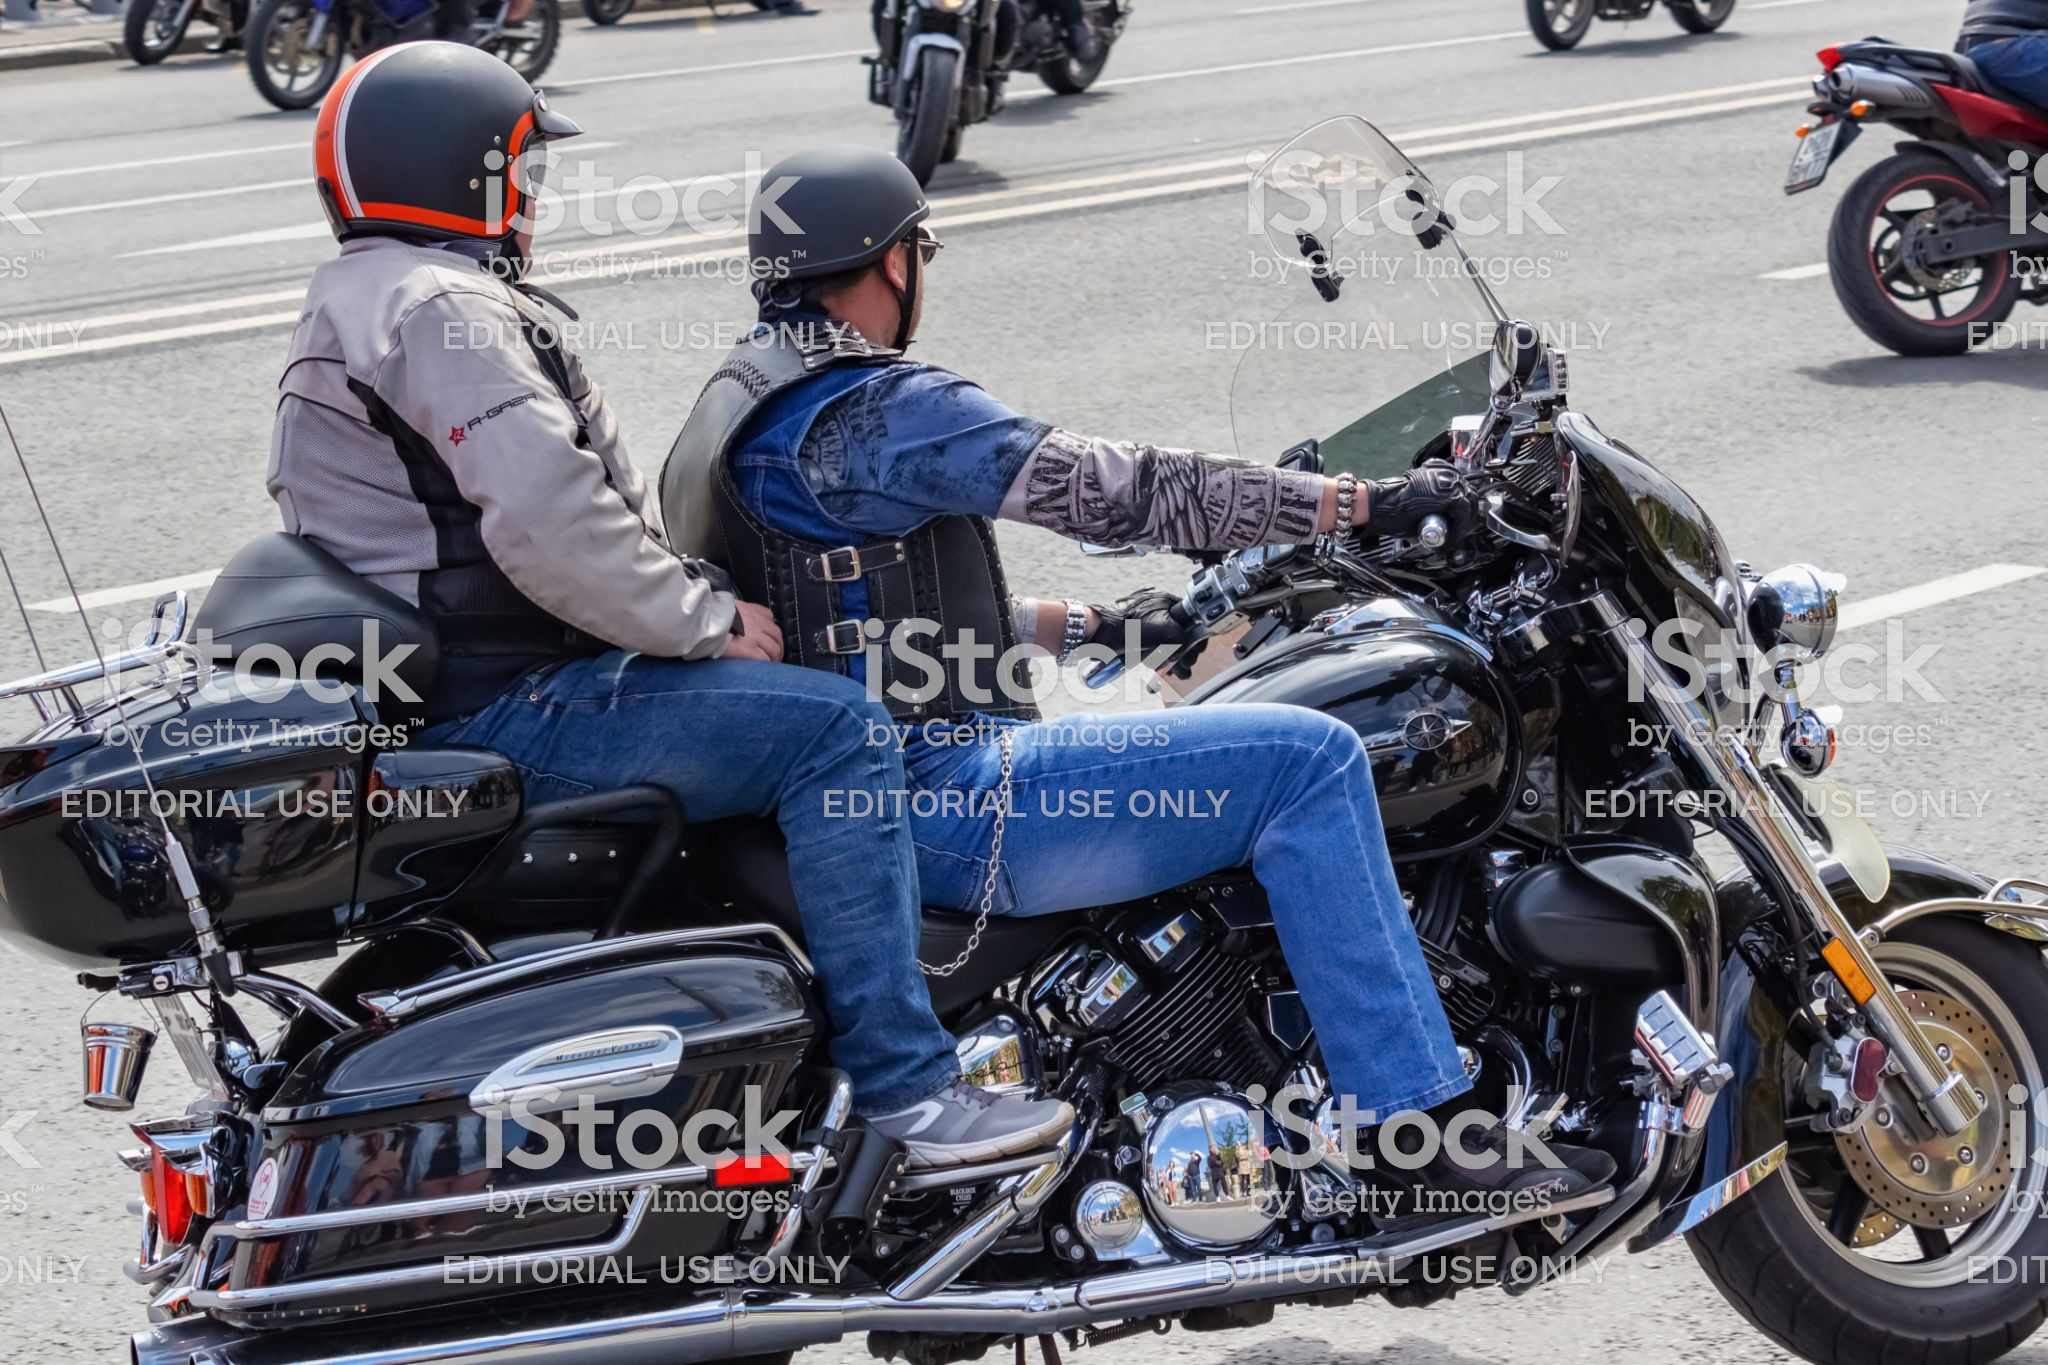helmet: (315, 40, 577, 277), (713, 142, 933, 265)
